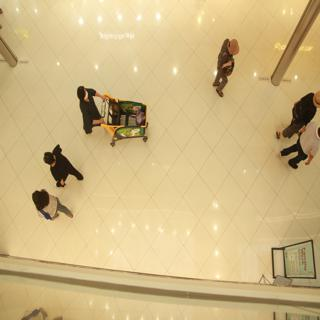person: (268, 84, 320, 141), (68, 76, 111, 142), (279, 114, 320, 174), (38, 145, 84, 191), (208, 30, 239, 98), (30, 184, 76, 228)
